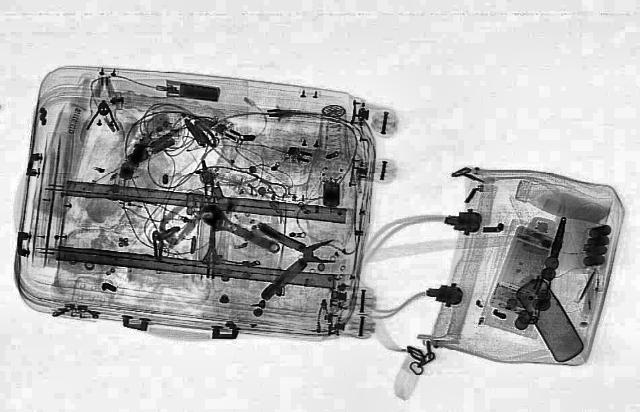Wrench: (186, 201, 290, 257)
